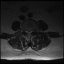CCS_normal: (28, 28, 30, 37)
LFS_stenosis: (32, 28, 34, 33)
LLS_normal: (30, 28, 32, 36)
RFS_normal: (24, 28, 26, 34)
RLS_normal: (26, 28, 28, 35)
